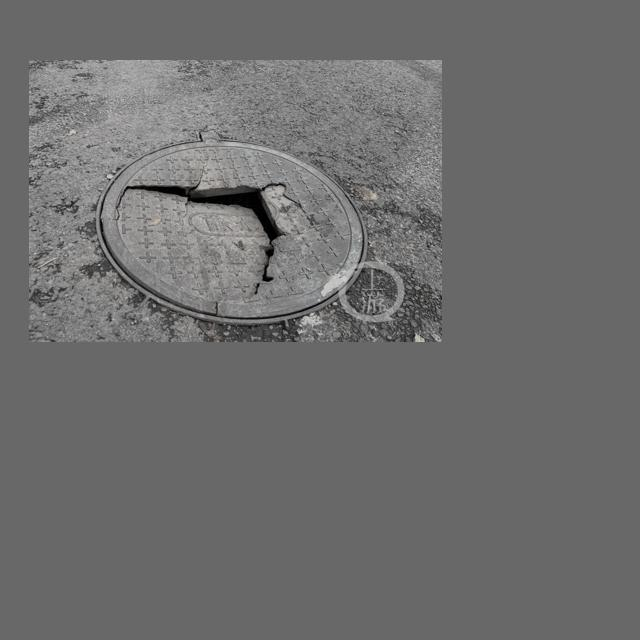broke: (89, 131, 369, 330)
